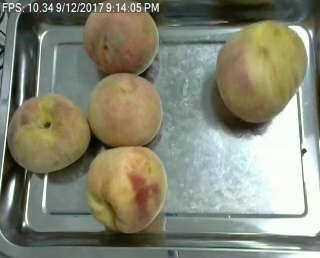Peach: (215, 20, 308, 123), (85, 146, 167, 235), (8, 92, 91, 173), (83, 1, 160, 75), (88, 71, 162, 148)
